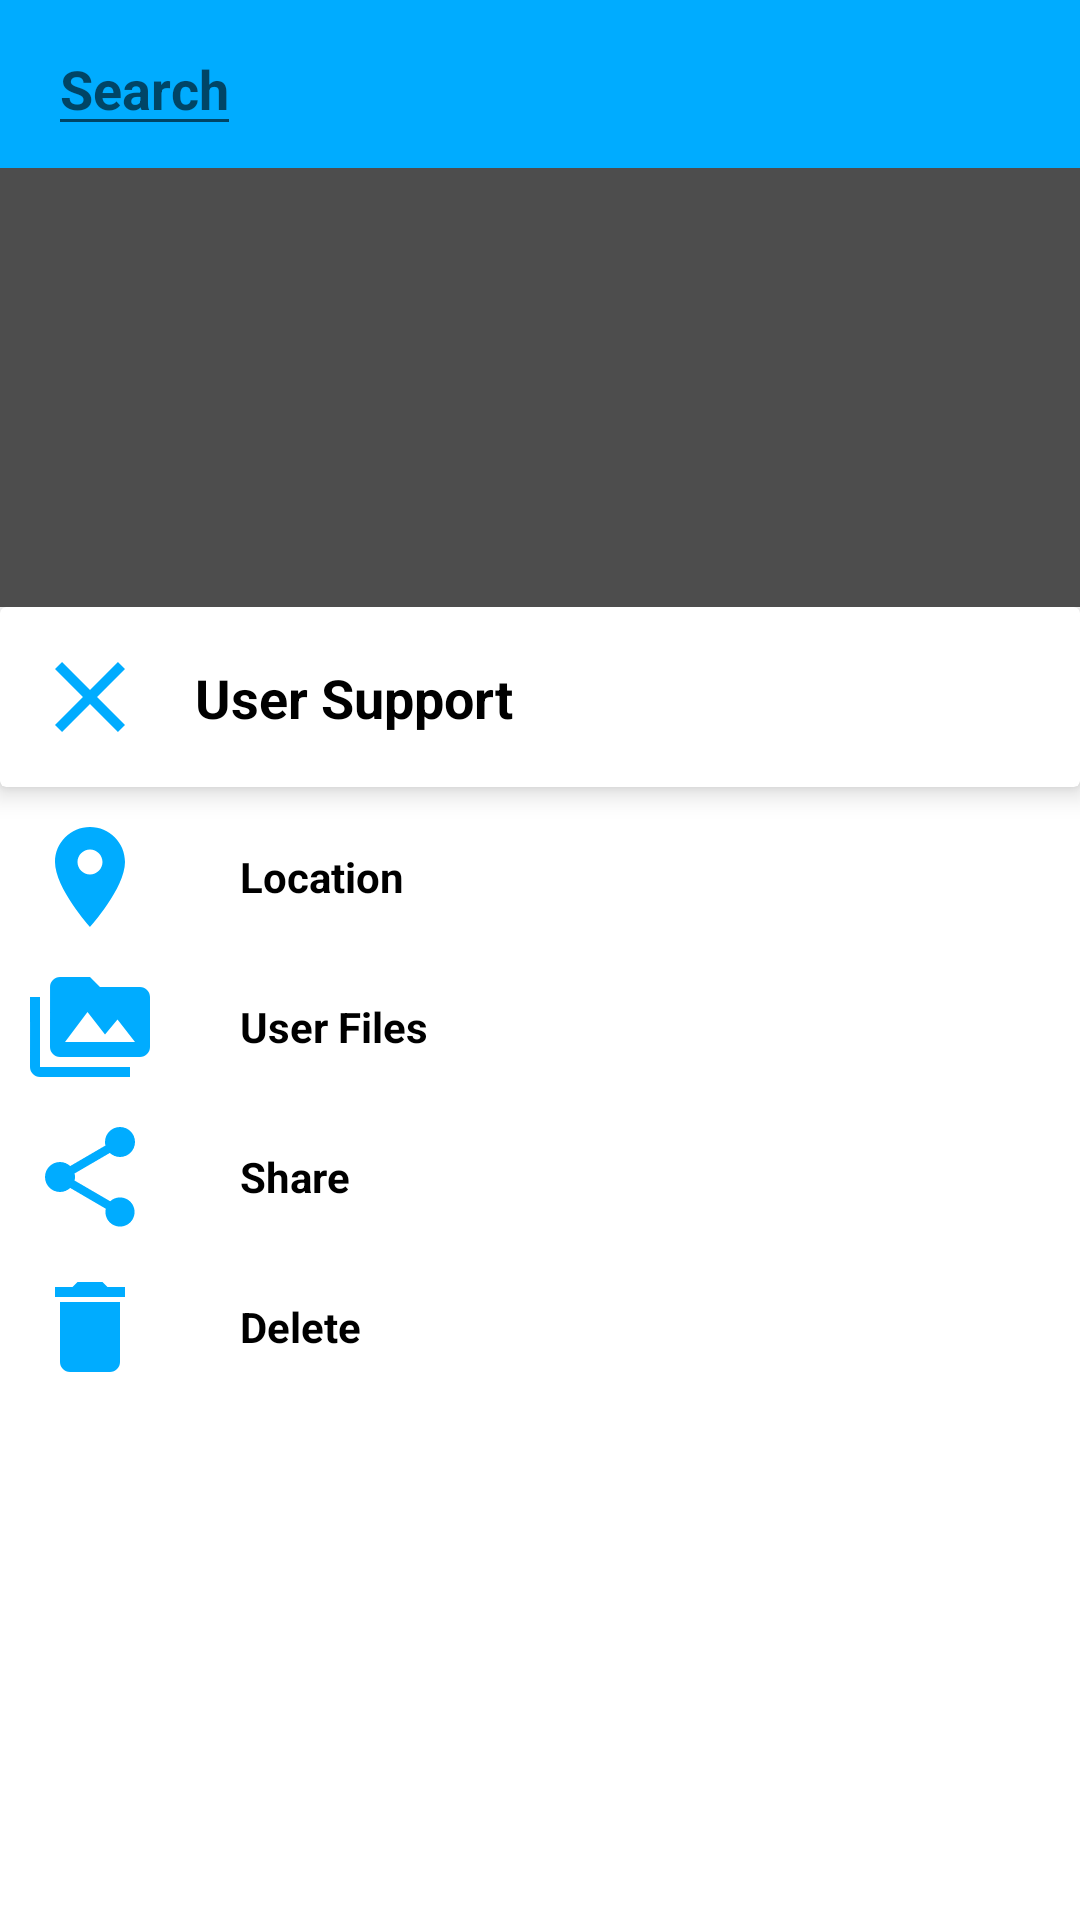

Icon click points for this 1080×1920 phone screenshot, format (x,y):
close: (90,697)
perm media: (90,1027)
